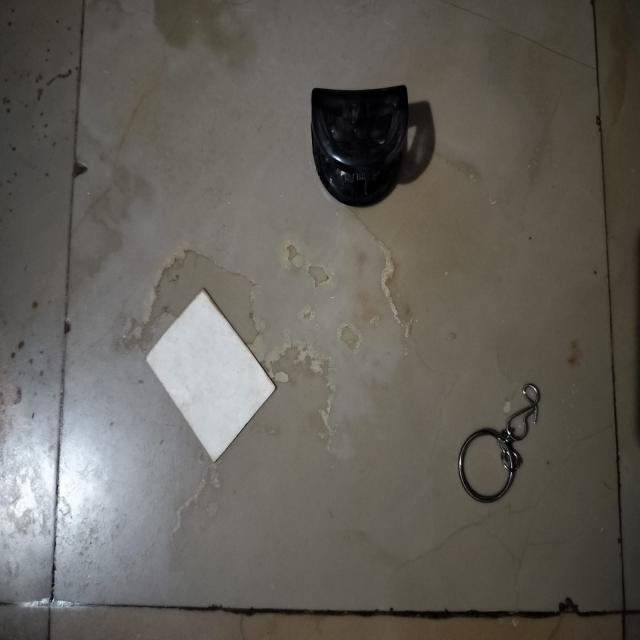metal: (455, 383, 540, 504)
paper: (145, 287, 277, 463)
plastic: (309, 81, 410, 208)
